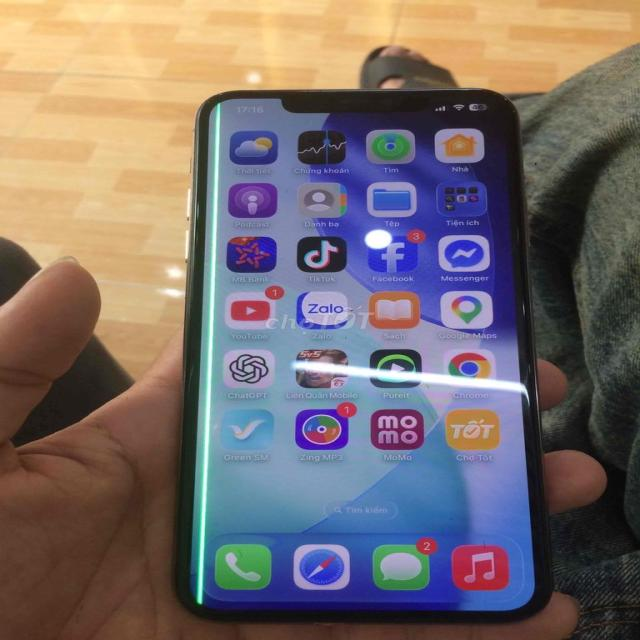gen_11: (175, 88, 552, 622)
